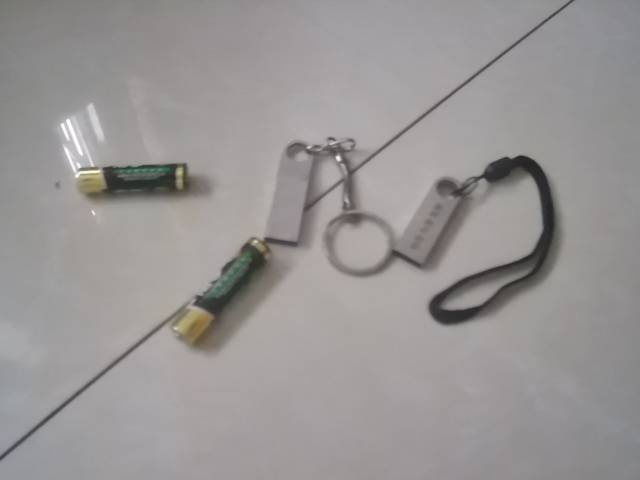U-disk: (403, 147, 559, 323), (263, 136, 393, 273)
battery: (170, 236, 277, 351), (74, 161, 191, 202)
